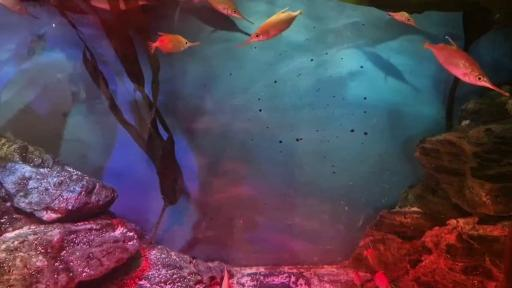Fish: (424, 36, 509, 96), (237, 8, 301, 47), (360, 49, 418, 92), (181, 5, 250, 36), (205, 0, 253, 24), (149, 33, 199, 53), (174, 0, 201, 27), (0, 0, 39, 18), (27, 32, 47, 57), (388, 12, 418, 27), (90, 0, 126, 10), (364, 248, 380, 270), (374, 271, 391, 287), (221, 267, 231, 287), (353, 271, 361, 287)
